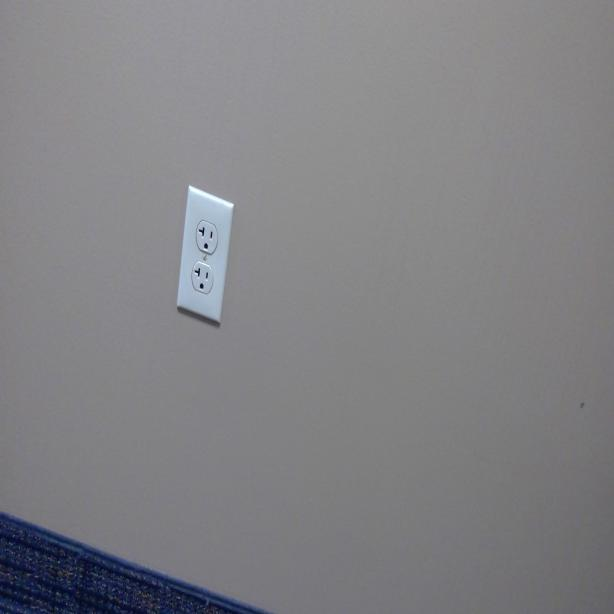typeb: (195, 219, 218, 253), (191, 262, 214, 295)
